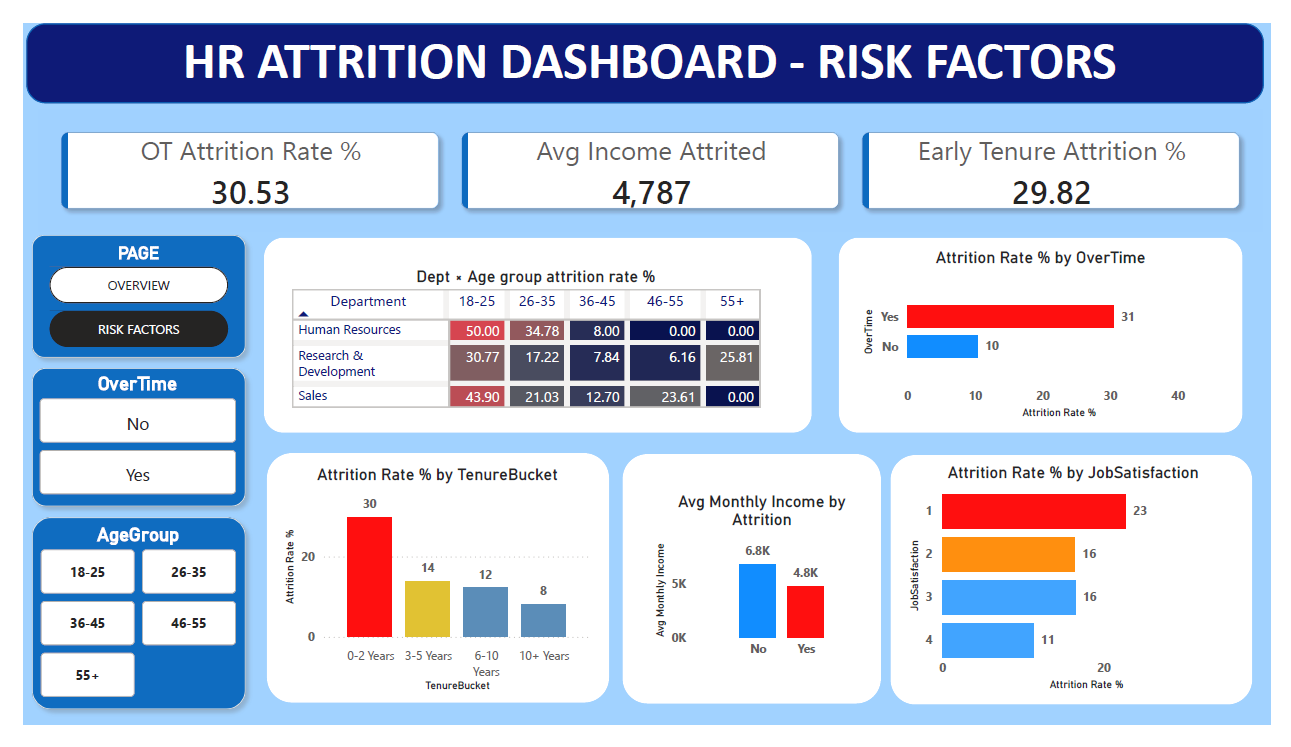

The page's visual inventory and layout, read from the dashboard file:
{"tool":"powerbi","page":{"name":"RISK FACTORS","canvas":[1280,720],"ordinal":1},"visuals":[{"type":"shape","box":[3.3,0,1270,81.7],"z":0},{"type":"textbox","box":[8.3,0,1270,78.3],"z":1000},{"type":"shape","box":[0,208.3,236.7,143.3],"z":2000},{"type":"pageNavigator","title":"PAGE","box":[26.7,225,183.3,108.3],"z":3000},{"type":"cardVisual","fields":{"Data":["hr_analytics_cleaned.OT Attrition Rate %","hr_analytics_cleaned.Avg Income Attrited","hr_analytics_cleaned.Early Tenure Attrition %"]},"box":[10,83.3,1268.3,136.7],"z":4000},{"type":"shape","box":[0,345,236.7,160],"z":5000},{"type":"shape","box":[0,498.3,236.7,215],"z":6000},{"type":"advancedSlicerVisual","fields":{"Values":["hr_analytics_cleaned.OverTime"]},"box":[11.7,358.3,211.7,130],"z":7000},{"type":"shape","box":[837.1,220,414.3,200],"z":7500},{"type":"shape","box":[247.1,220,561.4,200],"z":8000},{"type":"advancedSlicerVisual","fields":{"Values":["hr_analytics_cleaned.AgeGroup"]},"box":[13.3,513.3,210,183.3],"z":9000},{"type":"shape","box":[250,441.4,351.4,255.7],"z":10000},{"type":"barChart","fields":{"Y":["hr_analytics_cleaned.Attrition Rate %"],"Category":["hr_analytics_cleaned.OverTime"]},"box":[857.1,230,374.3,180],"z":11000},{"type":"shape","box":[890,442.9,371.4,255.7],"z":11500},{"type":"clusteredBarChart","fields":{"Y":["hr_analytics_cleaned.Attrition Rate %"],"Category":["hr_analytics_cleaned.JobSatisfaction"]},"box":[904.3,451.4,347.1,237.1],"z":13000},{"type":"shape","box":[615,441.7,265,256.7],"z":14000},{"type":"columnChart","fields":{"Category":["hr_analytics_cleaned.Attrition"],"Y":["hr_analytics_cleaned.Avg Monthly Income"]},"box":[642.9,480,230,180],"z":15000},{"type":"columnChart","fields":{"Y":["hr_analytics_cleaned.Attrition Rate %"],"Category":["hr_analytics_cleaned.TenureBucket"]},"box":[262.9,452.9,324.3,237.1],"z":17000},{"type":"pivotTable","title":"Dept × Age group attrition rate %","fields":{"Rows":["hr_analytics_cleaned.Department"],"Columns":["hr_analytics_cleaned.AgeGroup"],"Values":["hr_analytics_cleaned.Attrition Rate %"]},"box":[271.4,248.6,510,161.4],"z":18000}]}

Visuals, with their boxes in screenshot pixels (x1, y1, x2, y2), scaled from the page's 1280x720 canvas onto the 1291x747 screenshot:
shape: bbox=[3, 0, 1284, 85]
textbox: bbox=[8, 0, 1289, 81]
shape: bbox=[0, 216, 239, 365]
"PAGE" pageNavigator: bbox=[27, 233, 212, 346]
cardVisual - hr_analytics_cleaned.OT Attrition Rate % x hr_analytics_cleaned.Avg Income Attrited: bbox=[10, 86, 1289, 228]
shape: bbox=[0, 358, 239, 524]
shape: bbox=[0, 517, 239, 740]
advancedSlicerVisual - hr_analytics_cleaned.OverTime: bbox=[12, 372, 225, 507]
shape: bbox=[844, 228, 1262, 436]
shape: bbox=[249, 228, 815, 436]
advancedSlicerVisual - hr_analytics_cleaned.AgeGroup: bbox=[13, 533, 225, 723]
shape: bbox=[252, 458, 607, 723]
barChart - hr_analytics_cleaned.Attrition Rate % x hr_analytics_cleaned.OverTime: bbox=[864, 239, 1242, 425]
shape: bbox=[898, 460, 1272, 725]
clusteredBarChart - hr_analytics_cleaned.Attrition Rate % x hr_analytics_cleaned.JobSatisfaction: bbox=[912, 468, 1262, 714]
shape: bbox=[620, 458, 888, 725]
columnChart - hr_analytics_cleaned.Attrition x hr_analytics_cleaned.Avg Monthly Income: bbox=[648, 498, 880, 685]
columnChart - hr_analytics_cleaned.Attrition Rate % x hr_analytics_cleaned.TenureBucket: bbox=[265, 470, 592, 716]
"Dept × Age group attrition rate %" pivotTable: bbox=[274, 258, 788, 425]
